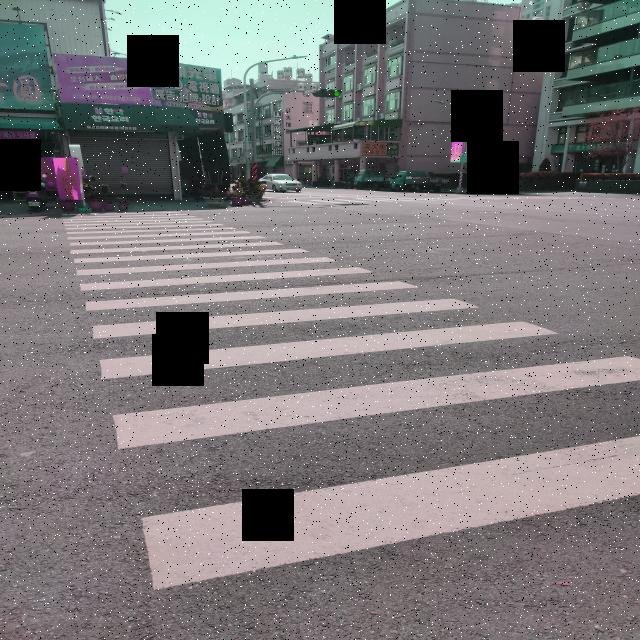zebra crossing: (59, 210, 640, 589), (288, 197, 619, 205)
